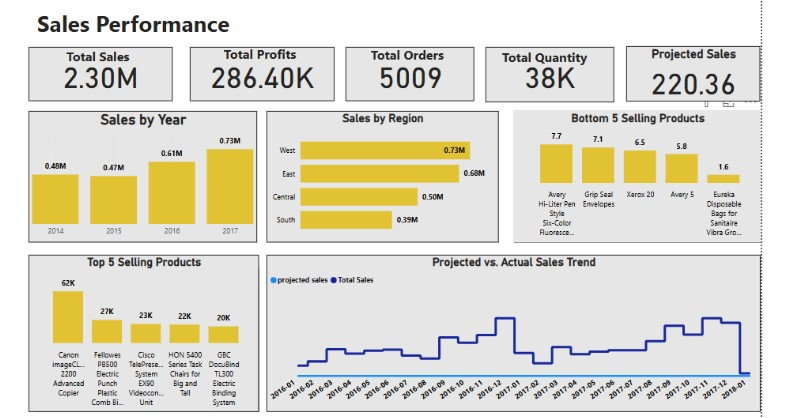

What the dashboard file says about the page in this screenshot:
{"tool":"powerbi","page":{"name":"dashboard ","canvas":[1280,720],"ordinal":0},"visuals":[{"type":"textbox","box":[60,25.7,377.1,70],"z":0},{"type":"card","fields":{"Values":["Superstore (2).Total Sales"]},"box":[50.7,95.5,241.8,91],"z":1000},{"type":"textbox","box":[108.3,91.7,128.3,43.3],"z":2000},{"type":"card","fields":{"Values":["Sum(Superstore (2).Profit)"]},"box":[320.9,95.5,243.3,91],"z":3000},{"type":"textbox","box":[373.1,88.1,140.3,47.8],"z":4000},{"type":"card","fields":{"Values":["Superstore (2).Total Orders"]},"box":[583.6,95.5,216.4,91],"z":5000},{"type":"textbox","box":[620.9,89.6,141.8,43.3],"z":6000},{"type":"card","fields":{"Values":["Sum(Superstore (2).Quantity)"]},"box":[817.9,95.5,216.4,92.5],"z":7000},{"type":"textbox","box":[840.3,92.5,164.2,38.8],"z":8000},{"type":"columnChart","title":" Sales by Year","fields":{"Category":["Superstore (2).Order Date.Variation.Date Hierarchy.Year"],"Y":["Superstore (2).Total Sales"]},"box":[50.7,203,383.6,220.9],"z":9000},{"type":"shape","box":[59.7,465.7,377.6,243.3],"z":10000},{"type":"clusteredColumnChart","title":"Top 5 Selling Products","fields":{"Category":["Superstore (2).Product Name"],"Y":["Superstore (2).Total Sales"]},"box":[50.7,444.8,386.6,264.2],"z":11000},{"type":"clusteredBarChart","title":"Sales by Region","fields":{"Category":["Superstore (2).Region"],"Y":["Superstore (2).Total Sales"]},"box":[450.7,203,389.6,220.9],"z":12000},{"type":"clusteredColumnChart","title":"Bottom 5 Selling Products","fields":{"Y":["Superstore (2).Total Sales"],"Category":["Superstore (2).Product Name"]},"box":[865.7,203,414.9,220.9],"z":13000},{"type":"lineChart","title":"Projected vs. Actual Sales Trend","fields":{"Category":["Superstore (2).YearMonth"],"Y":["Superstore (2).projected sales","Superstore (2).Total Sales"]},"box":[450.7,444.8,829.9,264.2],"z":14000},{"type":"card","title":"Projected Sales ","fields":{"Values":["Superstore (2).projected sales"]},"box":[1055.2,94,225.4,92.5],"z":15000}]}

Visuals, with their boxes in screenshot pixels (x1, y1, x2, y2):
textbox: 32,5,256,47
card - Superstore (2).Total Sales: 26,47,170,101
textbox: 60,44,137,70
card - Sum(Superstore (2).Profit): 187,47,331,101
textbox: 218,42,301,71
card - Superstore (2).Total Orders: 343,47,471,101
textbox: 365,43,449,69
card - Sum(Superstore (2).Quantity): 482,47,611,101
textbox: 495,45,593,68
" Sales by Year" columnChart: 26,110,254,242
shape: 31,267,256,411
"Top 5 Selling Products" clusteredColumnChart: 26,254,256,411
"Sales by Region" clusteredBarChart: 264,110,495,242
"Bottom 5 Selling Products" clusteredColumnChart: 511,110,757,242
"Projected vs. Actual Sales Trend" lineChart: 264,254,757,411
"Projected Sales " card: 623,46,757,101
